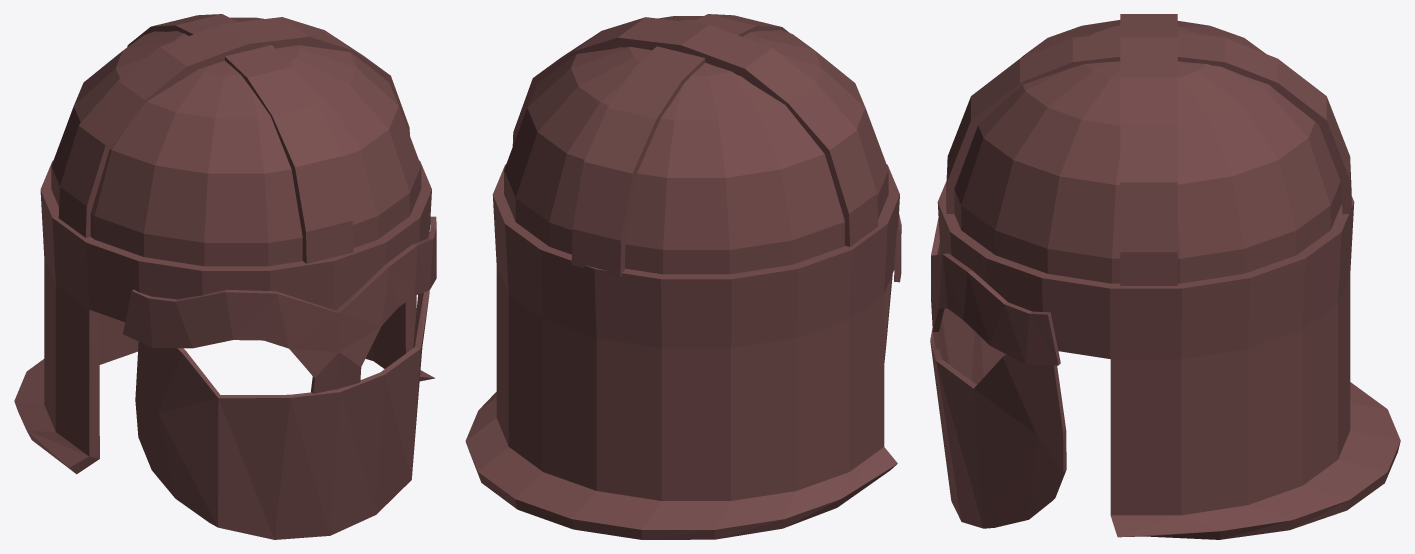
File: SM_helmet_norse_heavy.fbx
The picture shows the model from 3 angles, left to right: view 1: azimuth 30°, elevation 25°; view 2: azimuth 150°, elevation 25°; view 3: azimuth 270°, elevation 25°; orthographic projection. The views are drawn at different scales.
Parts seen in each view (by area): view 1: Object001; view 2: Object001; view 3: Object001.
Part boxes in pixels (bbox=[...]): Object001: bbox=[14, 14, 436, 539]; Object001: bbox=[465, 14, 901, 539]; Object001: bbox=[930, 14, 1400, 539].
Bounding box in the file's own units: 10.43 × 11.81 × 10.9.
